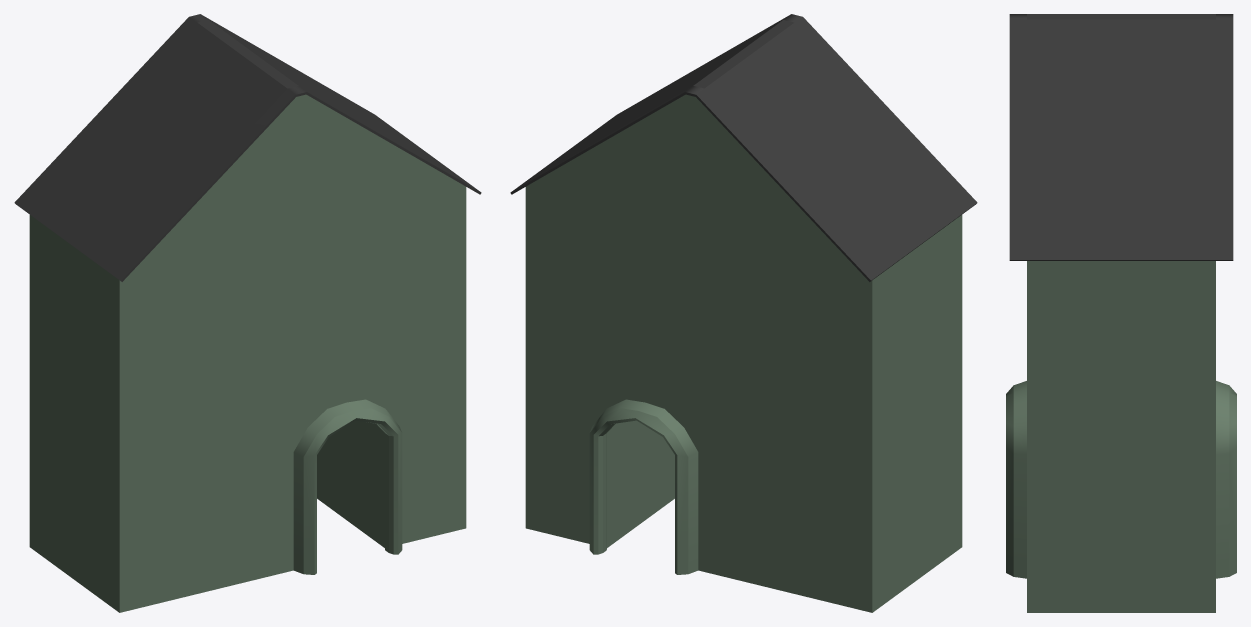
Rendered from Building_06.fbx.
3 renders of one model, left to right at view 1: azimuth 30°, elevation 25°; view 2: azimuth 150°, elevation 25°; view 3: azimuth 270°, elevation 25°, orthographic. The views are drawn at different scales.
Parts seen in each view (by area): view 1: Building_Shell, Roof; view 2: Building_Shell, Roof; view 3: Building_Shell, Roof.
Boxes of the visible parts, x1=… form: Building_Shell: x1=29, y1=94, x2=466, y2=612; Roof: x1=14, y1=14, x2=481, y2=281; Building_Shell: x1=525, y1=94, x2=962, y2=612; Roof: x1=510, y1=14, x2=977, y2=281; Building_Shell: x1=1006, y1=261, x2=1236, y2=612; Roof: x1=1009, y1=14, x2=1233, y2=260.
Size of the model in its own units: 8.28 by 10.6 by 4.37.
